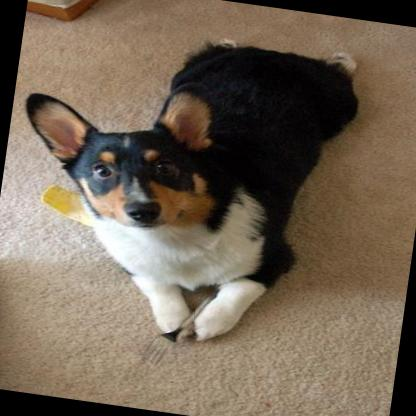Pembroke: (0, 8, 365, 359)
